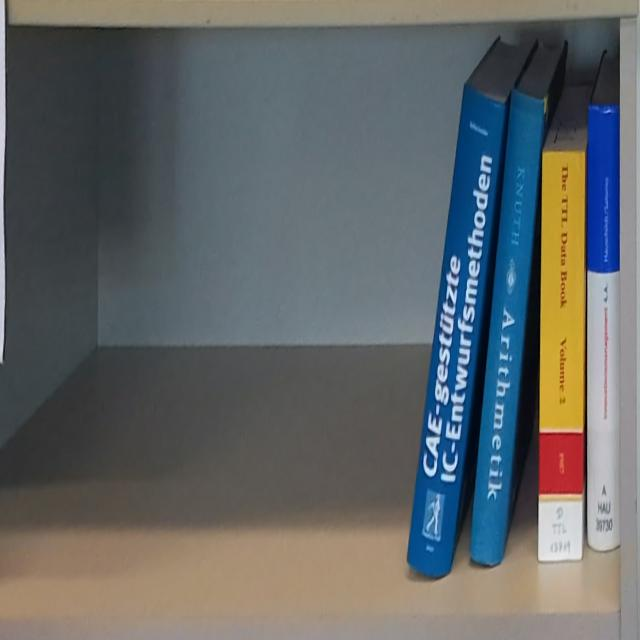Book Spine: (407, 83, 506, 577), (472, 87, 546, 568), (538, 153, 585, 561), (587, 99, 620, 553)
